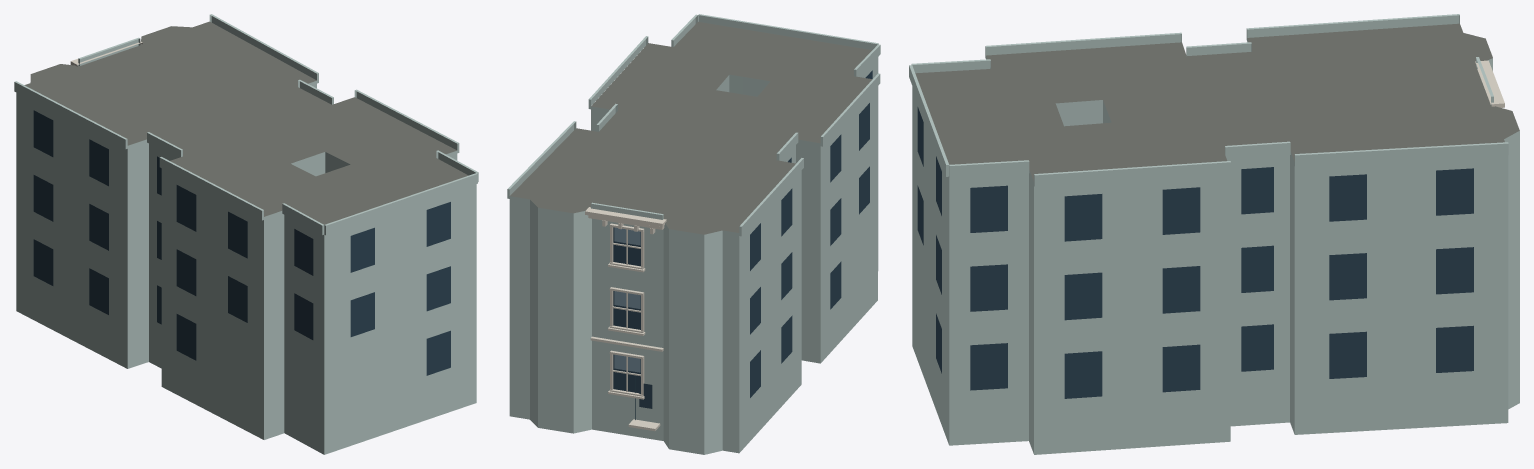
3 views of the same model, side by side, from view 1: azimuth 30°, elevation 25°; view 2: azimuth 150°, elevation 25°; view 3: azimuth 270°, elevation 25° (orthographic). The views are drawn at different scales.
Parts seen in each view (by area): view 1: Footprint 0 / surface 2, Footprint 0 / surface 1, Inset glazing, Facade bay volumes; view 2: Footprint 0 / surface 2, Footprint 0 / surface 1, Inset glazing, Facade bay volumes, Cornices and window frames, Sky reflection panels; view 3: Footprint 0 / surface 2, Footprint 0 / surface 1, Inset glazing, Facade bay volumes, Cornices and window frames.
Part boxes in pixels (x1,y1,x2,y2): Footprint 0 / surface 2: (16,80,476,454); Footprint 0 / surface 1: (24,21,468,224); Inset glazing: (33,110,450,375); Facade bay volumes: (14,14,478,235); Footprint 0 / surface 2: (509,57,878,454); Footprint 0 / surface 1: (510,21,872,234); Inset glazing: (613,70,872,408); Facade bay volumes: (507,14,880,236); Cornices and window frames: (585,207,666,431); Sky reflection panels: (614,227,640,372); Footprint 0 / surface 2: (912,39,1519,454); Footprint 0 / surface 1: (915,23,1519,181); Inset glazing: (917,107,1473,398); Facade bay volumes: (909,14,1508,187); Cornices and window frames: (1475,60,1504,107).
Bounding box in the file's own units: 14.53 × 11.79 × 23.24.
